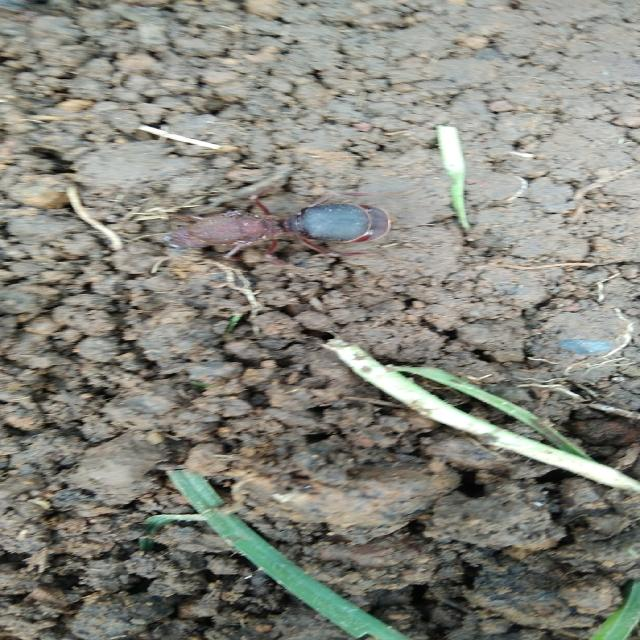Alive-Female-Dealate: (119, 186, 425, 273)
